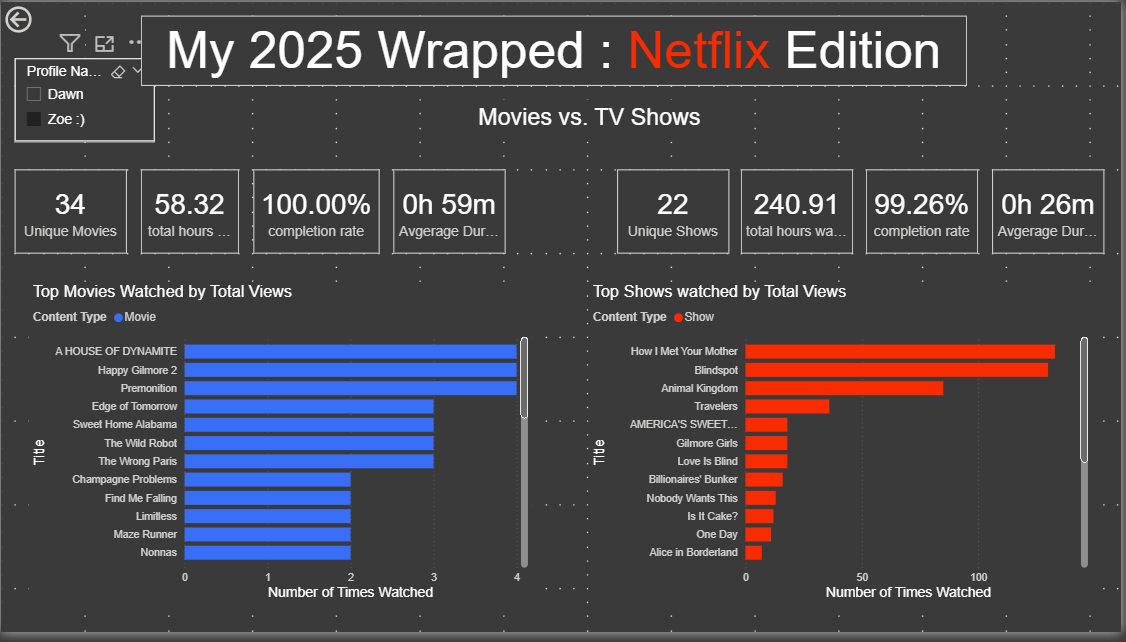

The dashboard page shown, as its layout file describes it:
{"tool":"powerbi","page":{"name":"Movie vs TV show","canvas":[1280,720],"ordinal":1},"visuals":[{"type":"slicer","fields":{"Values":["2025ViewingActivity (2).Profile Name"]},"box":[16,64,160,96],"z":0},{"type":"clusteredBarChart","title":"Top Shows watched by Total Views","fields":{"Series":["2025ViewingActivity (2).Content Type"],"Category":["2025ViewingActivity (2).Title"],"Y":["2025ViewingActivity (2).total views"]},"box":[672,320,576,368],"z":1000},{"type":"textbox","box":[160,16,944,80],"z":2000},{"type":"textbox","box":[528,112,288,48],"z":3000},{"type":"card","fields":{"Values":["2025ViewingActivity (2).Unique Shows"]},"box":[704,192,128,96],"z":4000},{"type":"card","fields":{"Values":["2025ViewingActivity (2).Unique Movies"]},"box":[16,192,128,96],"z":5000},{"type":"card","fields":{"Values":["2025ViewingActivity (2).total hours watched"]},"box":[160,192,112,96],"z":6000},{"type":"card","fields":{"Values":["2025ViewingActivity (2).total hours watched"]},"box":[845.1,191.4,128,96],"z":7000},{"type":"card","fields":{"Values":["2025ViewingActivity (2).completion rate"]},"box":[288,192,144,96],"z":8000},{"type":"actionButton","box":[0,0,100,40],"z":9000},{"type":"card","fields":{"Values":["2025ViewingActivity (2).completion rate"]},"box":[989.1,191.4,128,96],"z":10000},{"type":"card","fields":{"Values":["2025ViewingActivity (2).Avg Movie Duration Label"]},"box":[1133.1,191.4,128,96],"z":11000},{"type":"card","fields":{"Values":["2025ViewingActivity (2).Avg Movie Duration Label"]},"box":[448,192,128,96],"z":12000},{"type":"clusteredBarChart","title":"Top Movies Watched by Total Views","fields":{"Series":["2025ViewingActivity (2).Content Type"],"Category":["2025ViewingActivity (2).Title"],"Y":["2025ViewingActivity (2).total views"]},"box":[32,320,576,368],"z":13000}]}

Visuals, with their boxes on the page's 1280x720 design canvas (x1, y1, x2, y2). These are canvas units, not pixel positions in the 1126x642 screenshot, which may show the page scaled, cropped or inside an application window:
slicer - 2025ViewingActivity (2).Profile Name: (16,64,176,160)
"Top Shows watched by Total Views" clusteredBarChart: (672,320,1248,688)
textbox: (160,16,1104,96)
textbox: (528,112,816,160)
card - 2025ViewingActivity (2).Unique Shows: (704,192,832,288)
card - 2025ViewingActivity (2).Unique Movies: (16,192,144,288)
card - 2025ViewingActivity (2).total hours watched: (160,192,272,288)
card - 2025ViewingActivity (2).total hours watched: (845,191,973,287)
card - 2025ViewingActivity (2).completion rate: (288,192,432,288)
actionButton: (0,0,100,40)
card - 2025ViewingActivity (2).completion rate: (989,191,1117,287)
card - 2025ViewingActivity (2).Avg Movie Duration Label: (1133,191,1261,287)
card - 2025ViewingActivity (2).Avg Movie Duration Label: (448,192,576,288)
"Top Movies Watched by Total Views" clusteredBarChart: (32,320,608,688)
